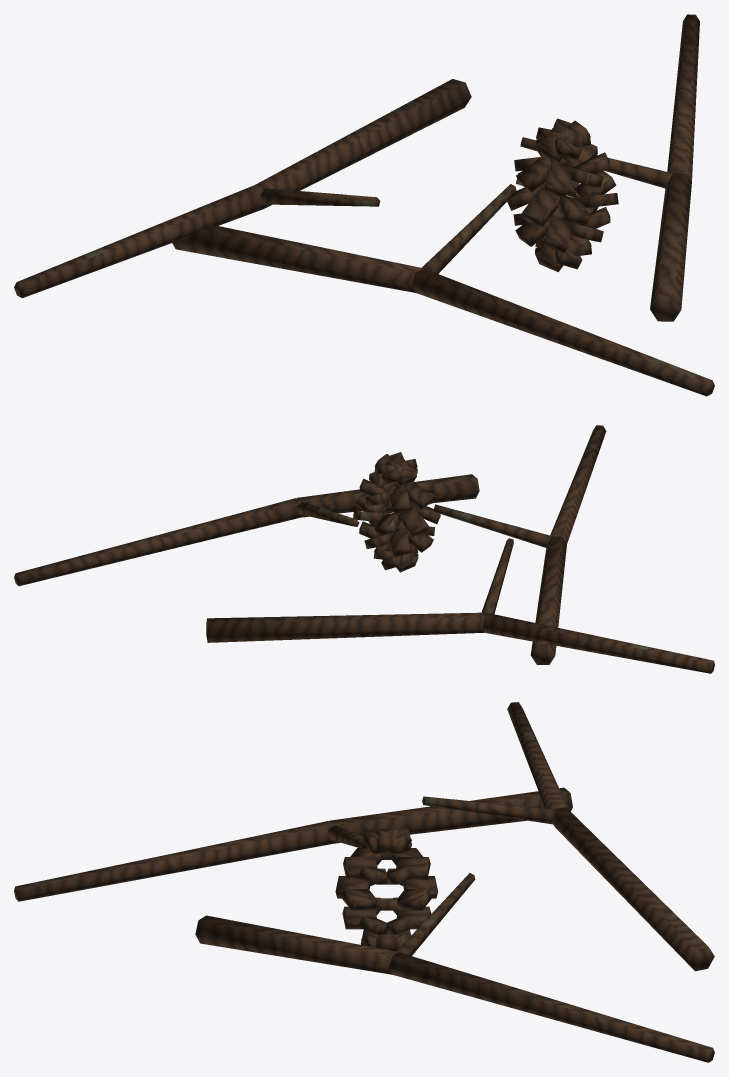
Rendered from forest_debris.glb.
The picture shows the model from 3 angles, top to bottom: view 1: azimuth 30°, elevation 25°; view 2: azimuth 150°, elevation 25°; view 3: azimuth 270°, elevation 25°; orthographic projection. The views are drawn at different scales.
Visible parts, largest first — view 1: ForestDebris3D; view 2: ForestDebris3D; view 3: ForestDebris3D.
Boxes of the visible parts, left/top/right/bottom form: ForestDebris3D: left=14, top=14, right=714, bottom=396; ForestDebris3D: left=14, top=425, right=714, bottom=673; ForestDebris3D: left=14, top=702, right=714, bottom=1062.
Bounding box in the file's own units: 0.3174 × 0.0518 × 0.2686.
1 material, 1 textured.
